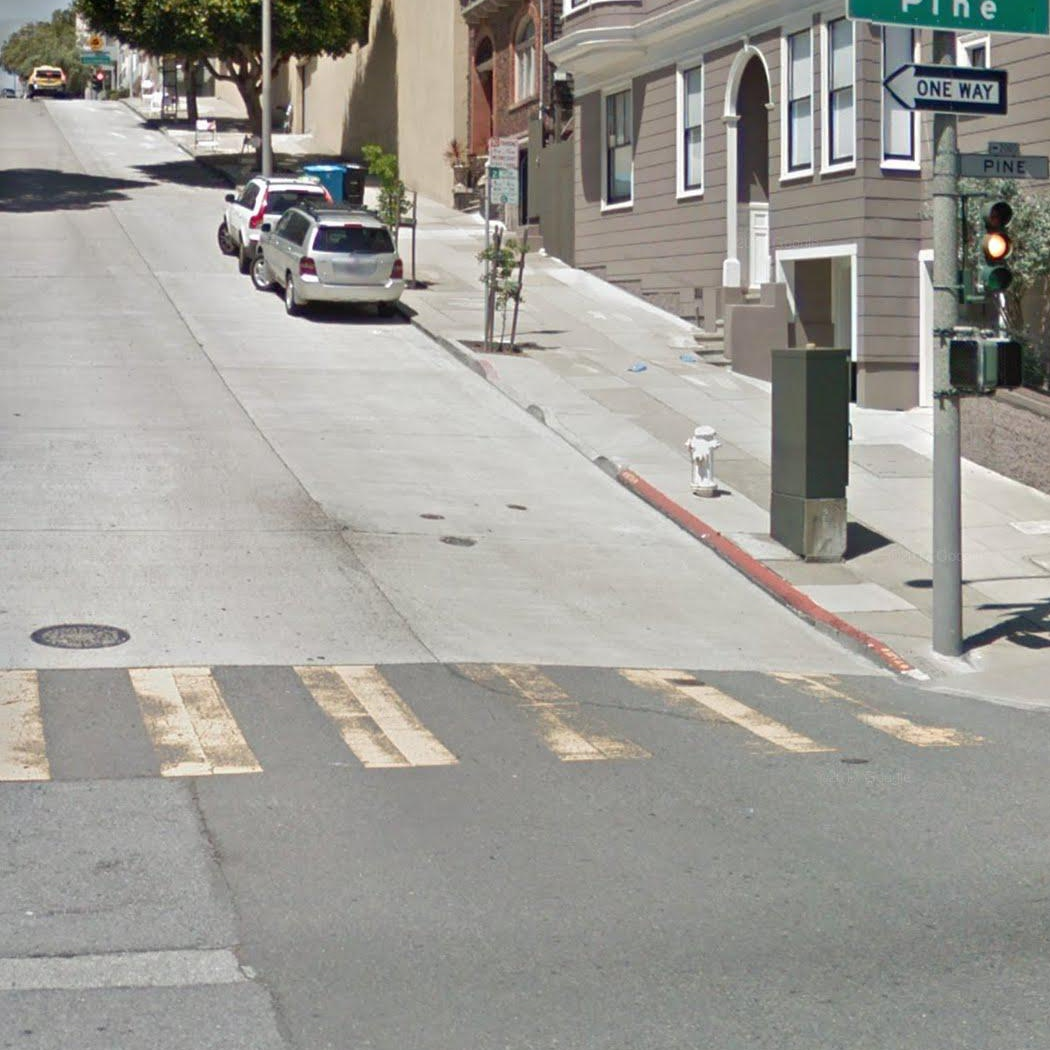2 Hour Parking: (489, 167, 520, 205)
No Parking: (487, 134, 519, 168)
